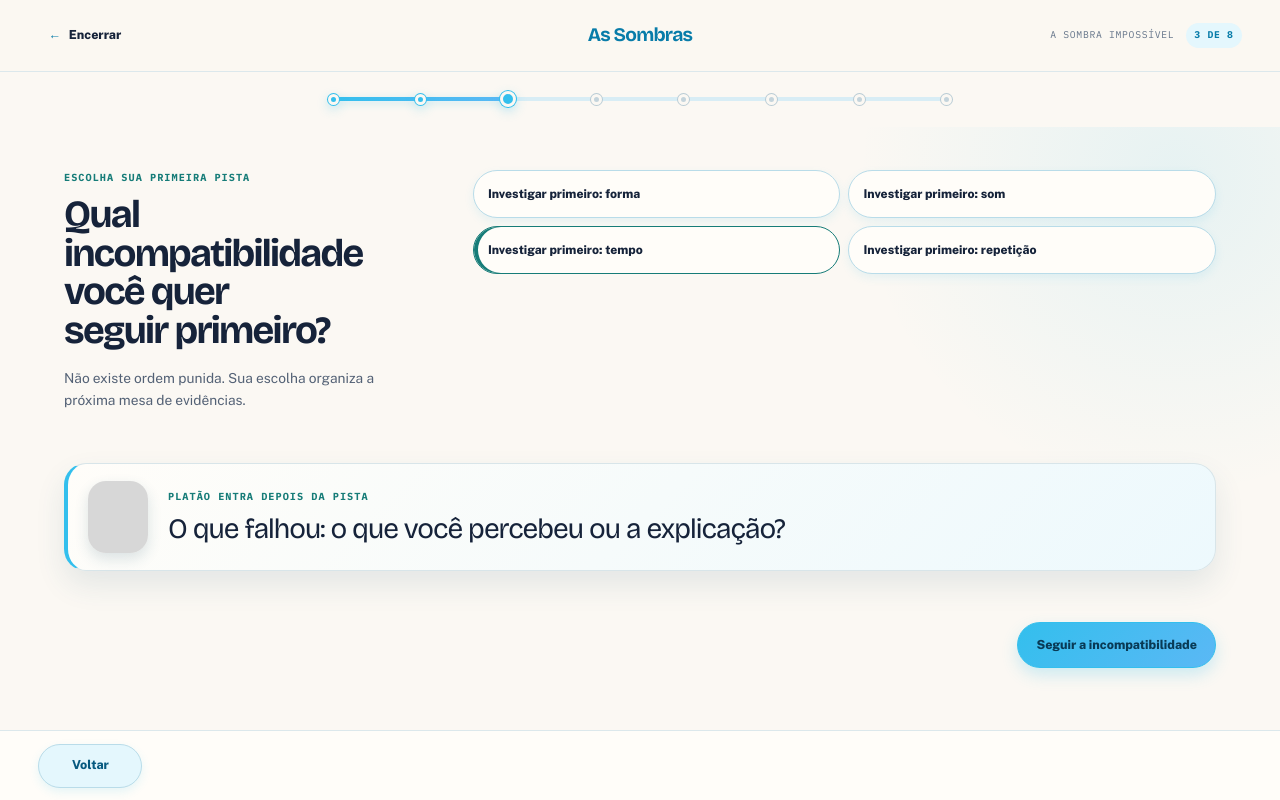
repairs a missing first-clue response from valid restored Scene 3 state
(page scrolled)
Click the button "Seguir a incompatibilidade": click(1117, 645) [1018,622,1216,668]
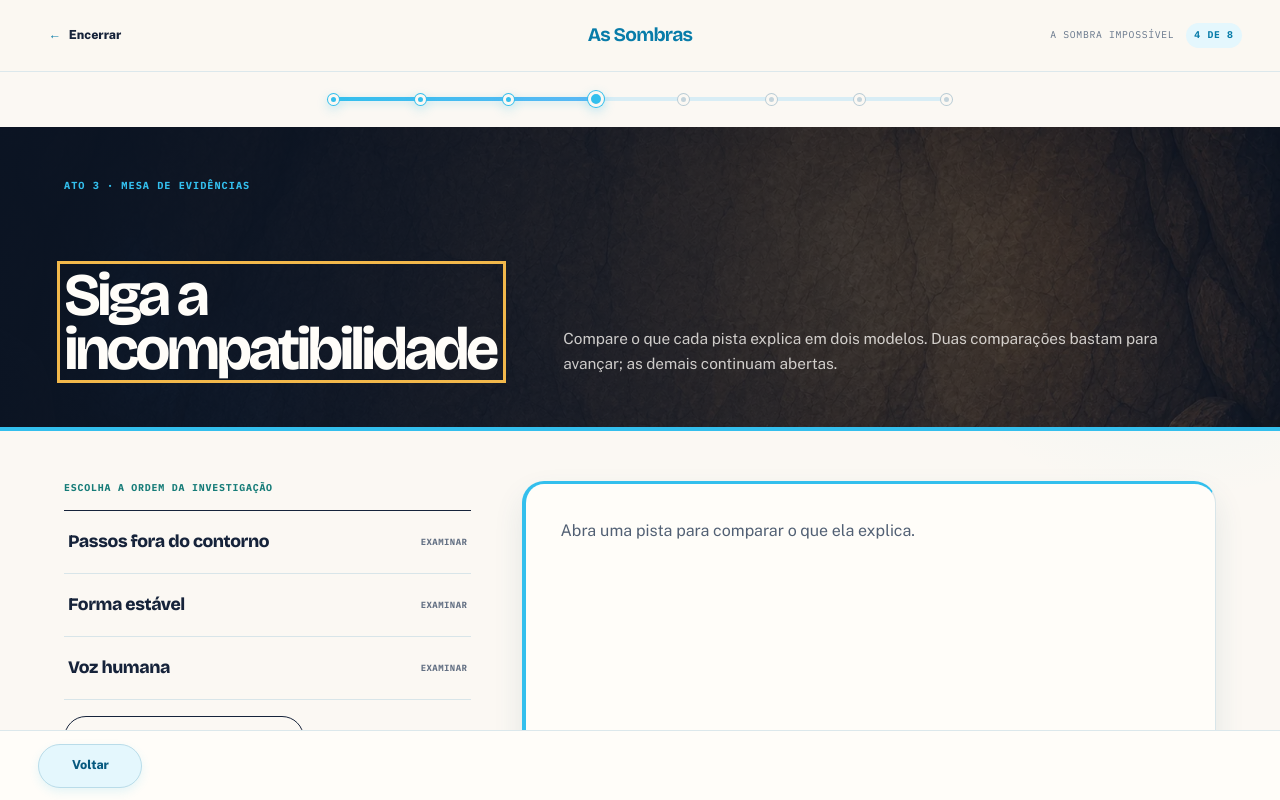
Now the button "examinar passos fora do contorno" is shown, box [64,511,471,573]
